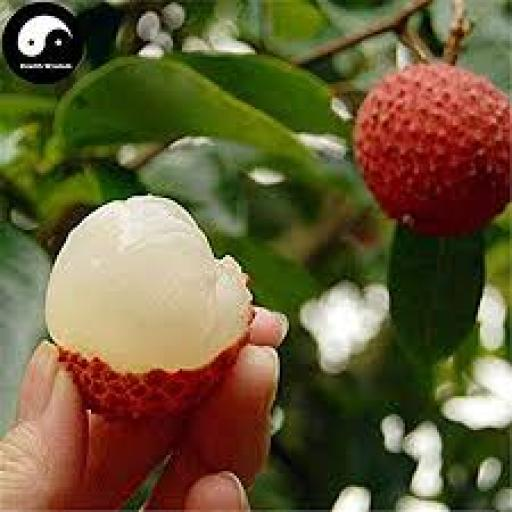lychee: (46, 196, 252, 418), (355, 64, 511, 236)
